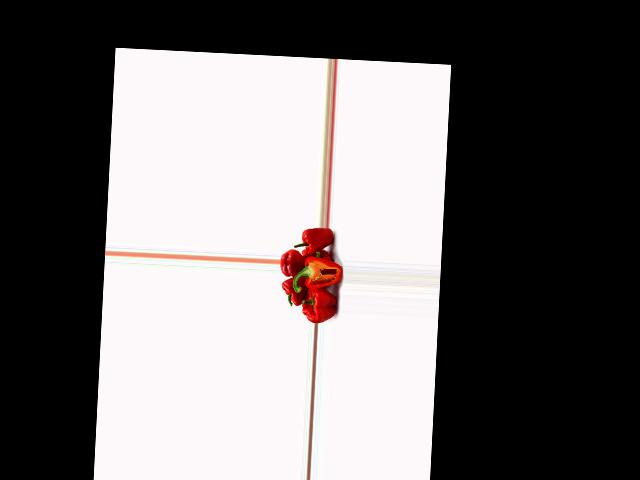bell_pepper: (280, 275, 306, 307)
